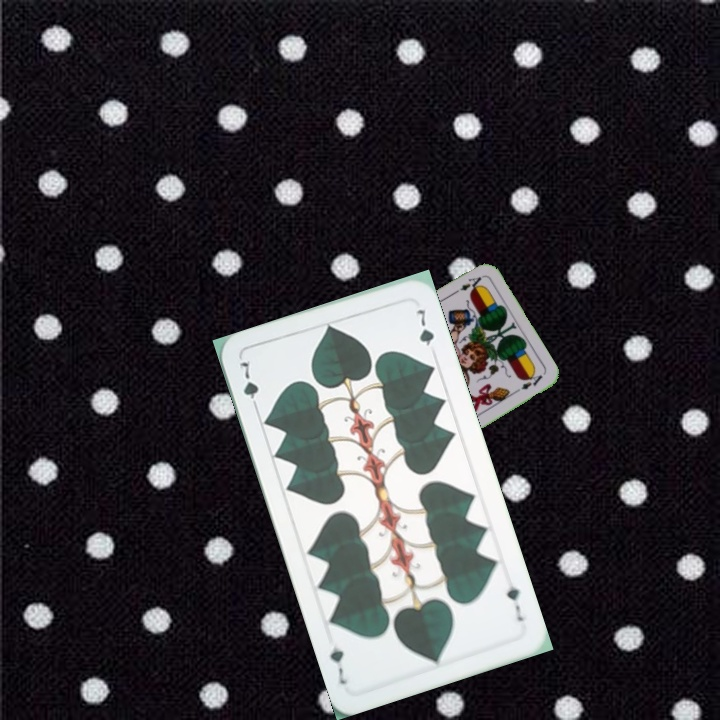EA: (447, 273, 484, 298)
G7: (235, 355, 261, 414), (502, 581, 526, 624)
